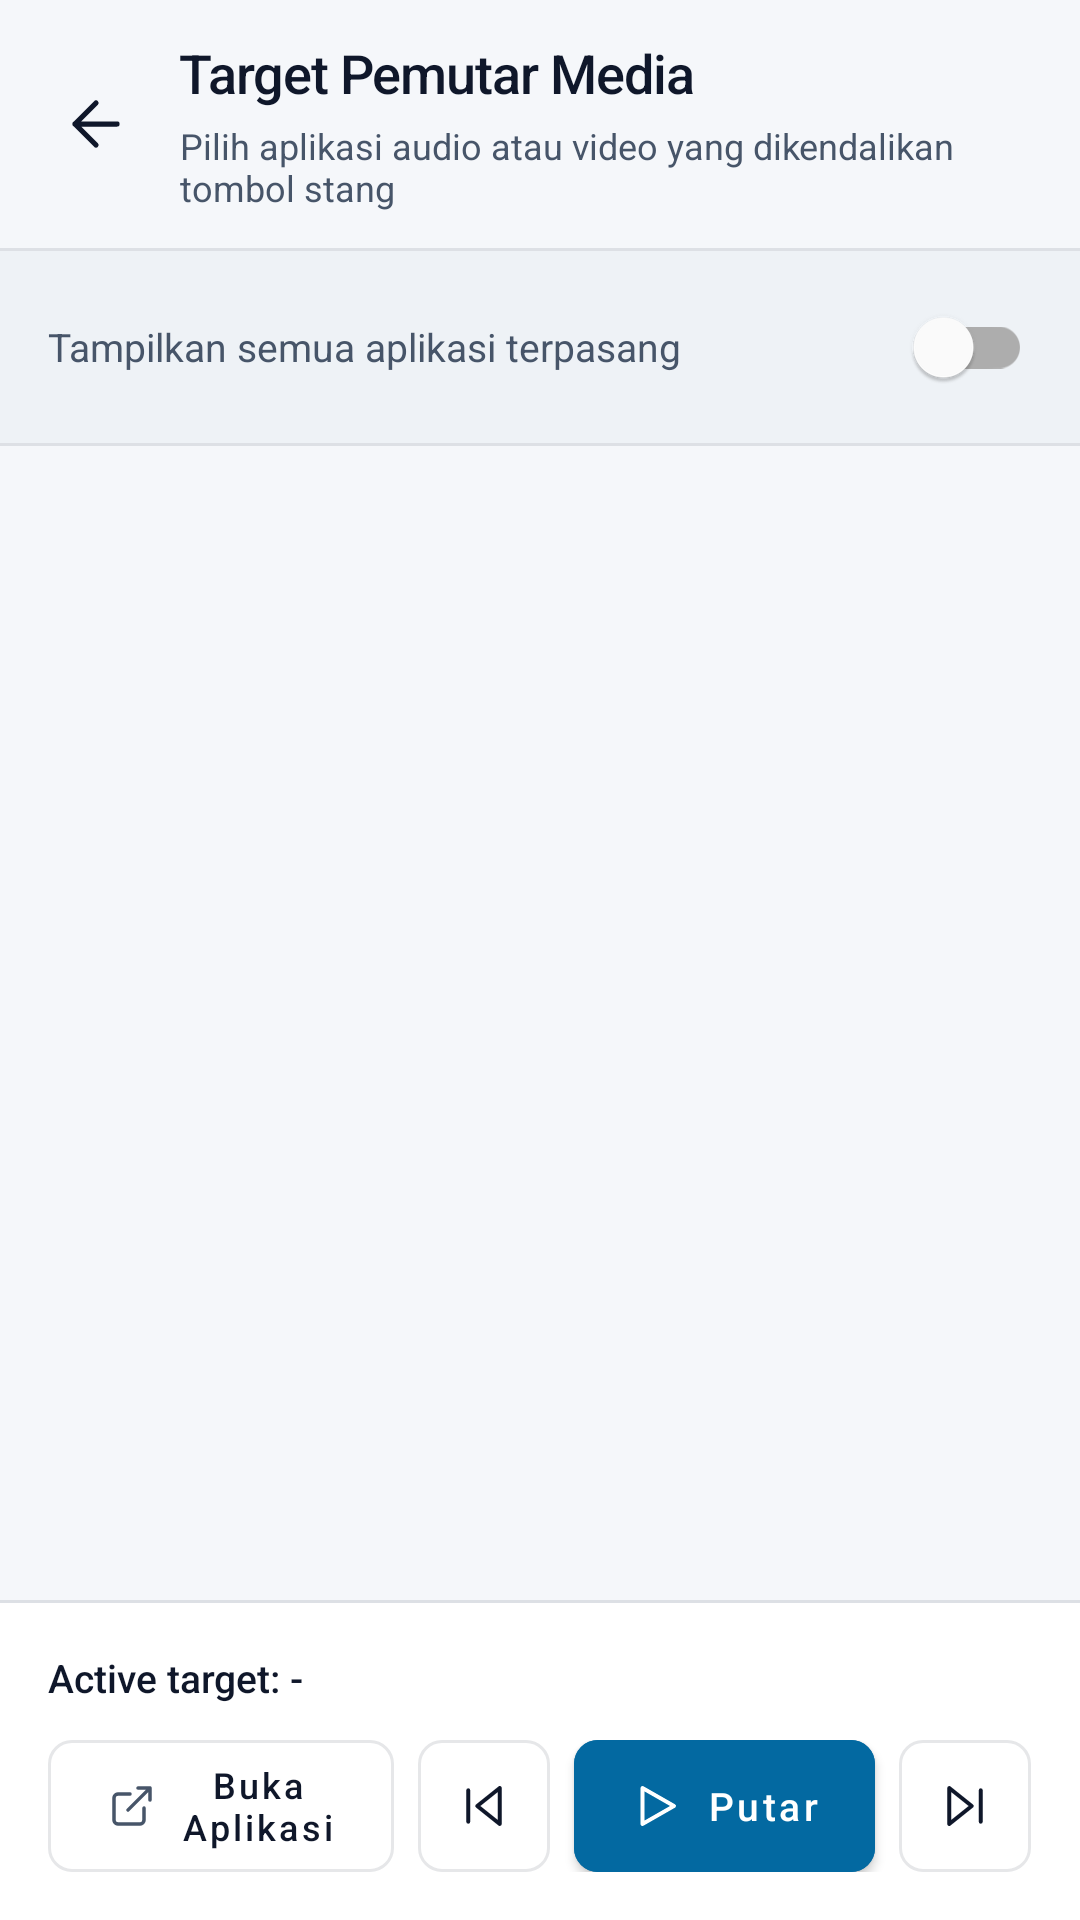

Screen size 1080px x 1920px. Icon name, then its center in pixels as (x,y):
Kembali: (96,124)
